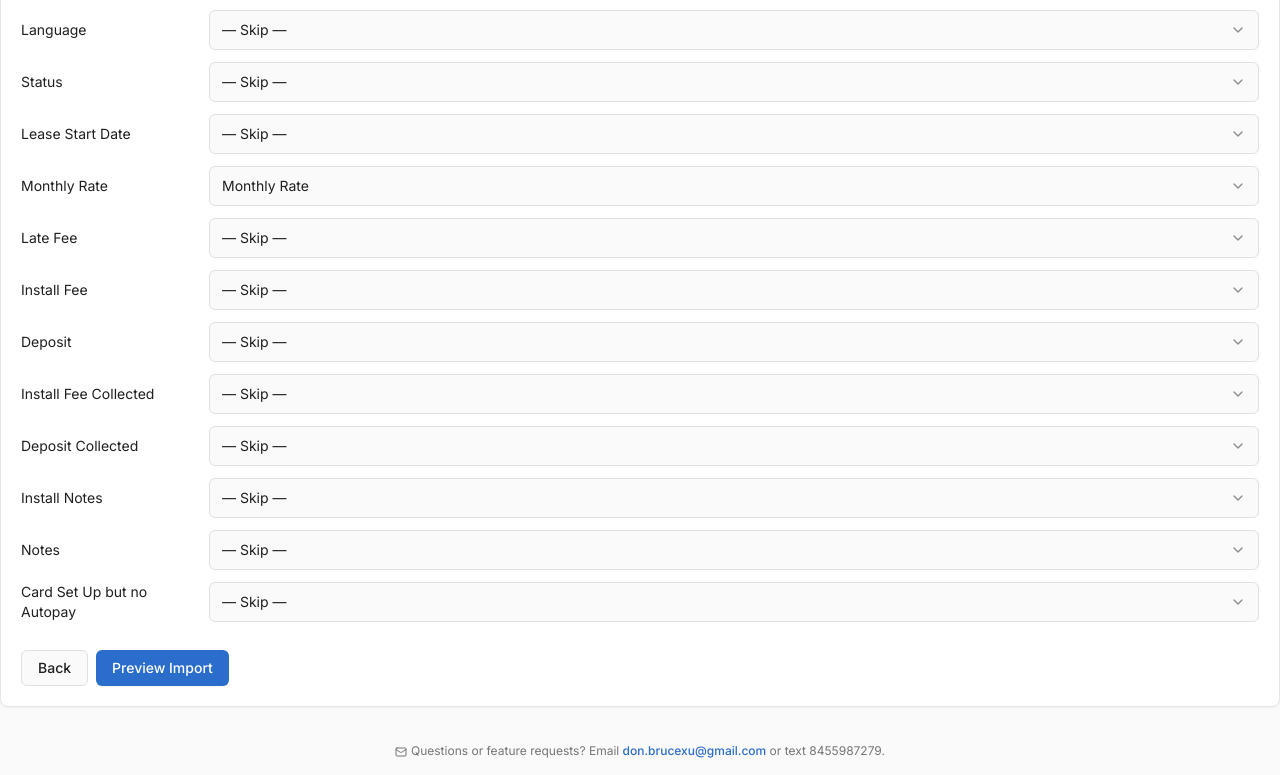
Scenario: ImportPage › imports invalid renter financial values with operator settings defaults
The width and height of the screenshot is (1280, 775).
Earlier steps of the test are not shown.
Later steps or results of the test are not shown.
(page scrolled)
Click the button "Preview Import" at (162, 668), box x1=96 y1=650 x2=229 y2=686
(page scrolled)
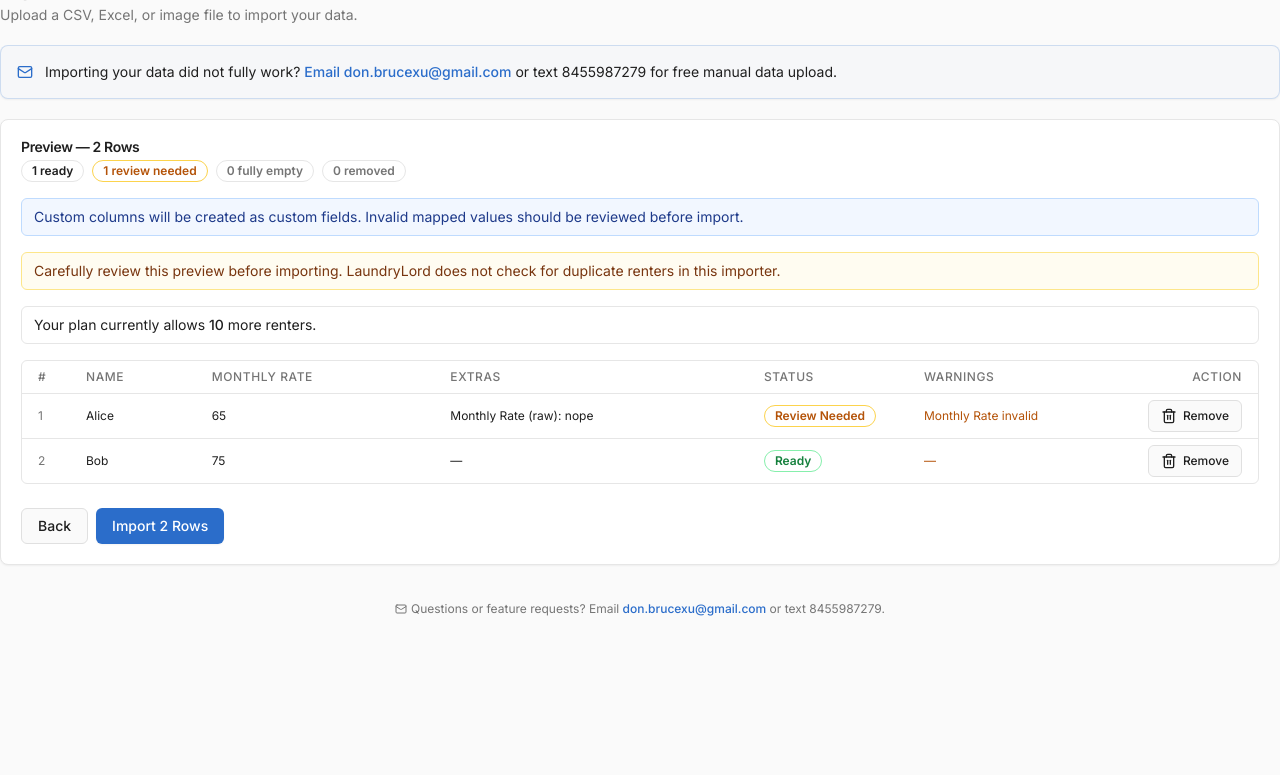
Now the text "Review Needed" is shown, box x1=764 y1=404 x2=876 y2=426
Click the button "Import 2 Rows" at (160, 526), box x1=96 y1=508 x2=224 y2=544
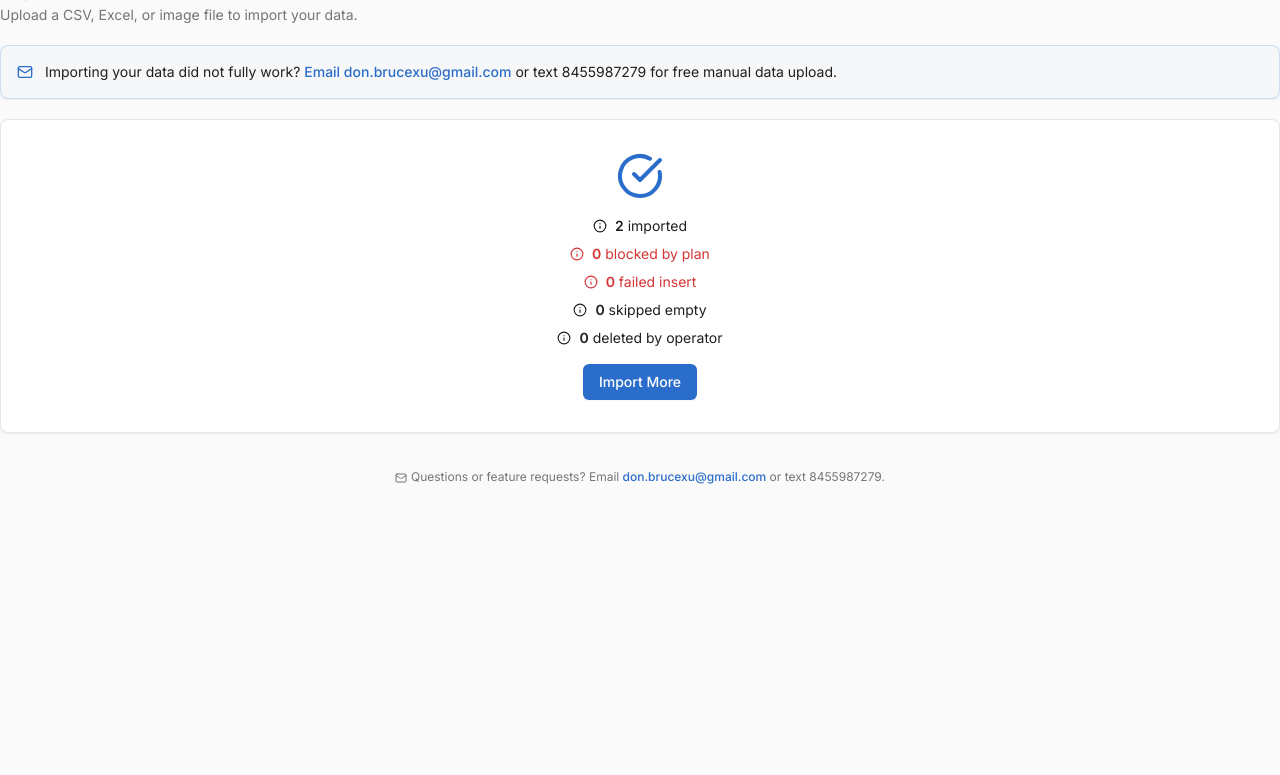
Now the button "Import More" is shown, box x1=583 y1=364 x2=697 y2=400
